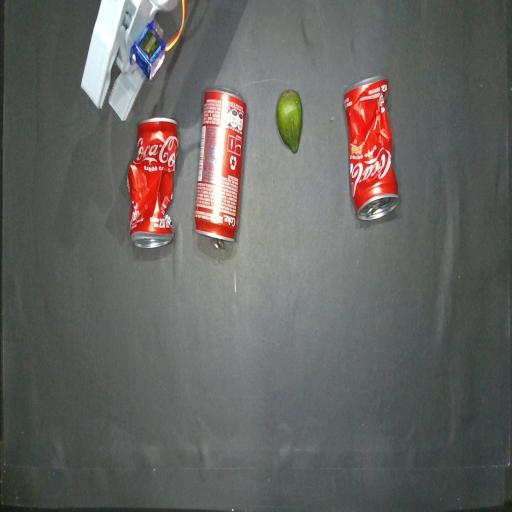higo: (276, 90, 302, 153)
lata: (195, 88, 247, 249)
lata_defectuoso: (344, 76, 399, 219), (128, 118, 179, 247)
